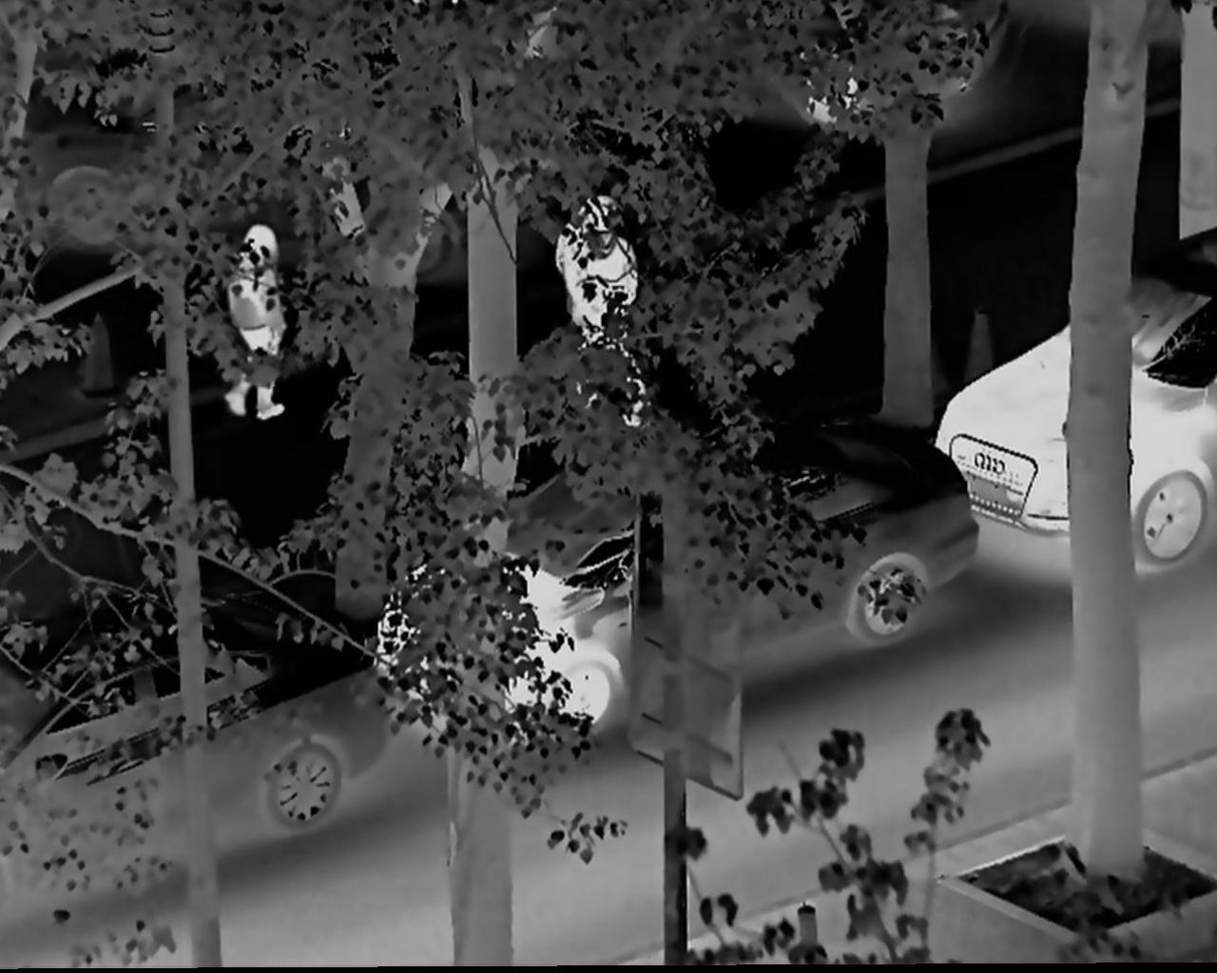person: (559, 196, 647, 429), (231, 220, 287, 420)
